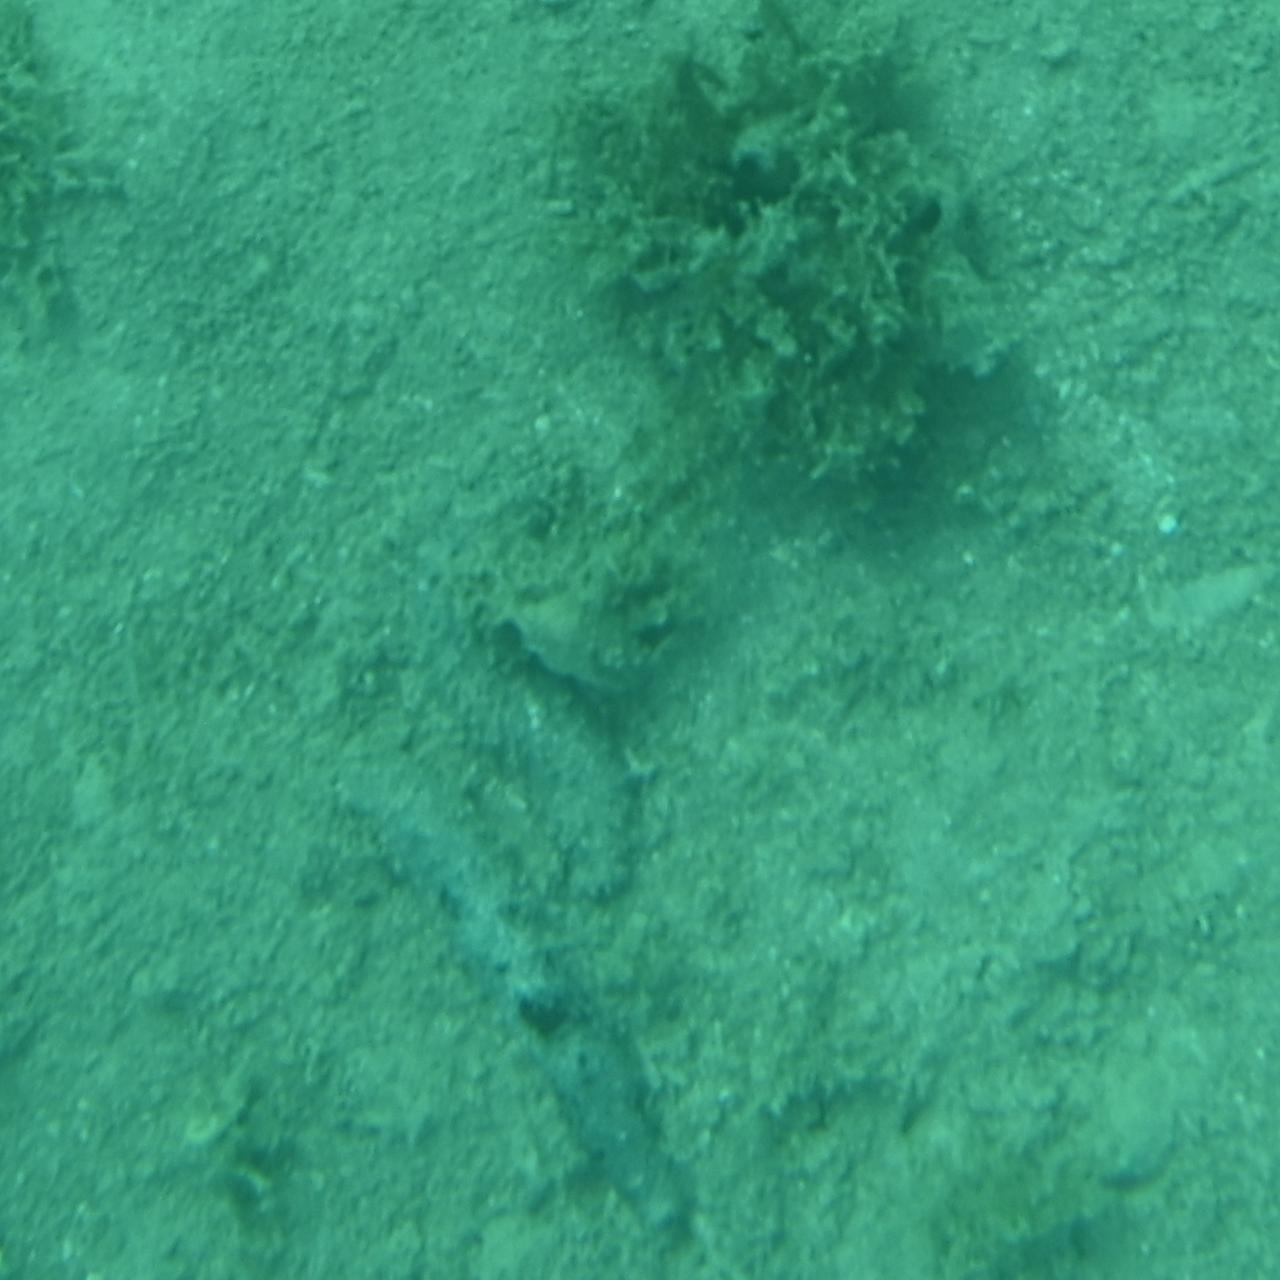Holothuria tubulosa: (331, 754, 713, 1266), (449, 641, 681, 914)
Phaeophyceae -cfr Cystoseira-: (539, 0, 979, 551)
